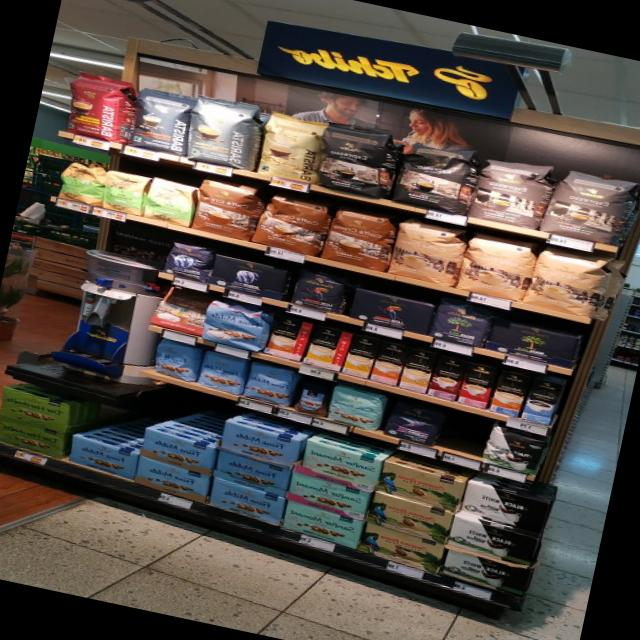AB Bohne: (158, 238, 216, 284)
AB Gemahlen: (204, 252, 294, 302)
Athiopien Bohne: (52, 159, 106, 206)
Athiopien Gemahlen: (141, 177, 197, 228), (100, 169, 152, 216)
BM Bohne: (423, 296, 495, 349)
BM Gemahlen: (482, 314, 583, 369)
BW Bohne: (479, 422, 552, 477)
BW Gemahlen: (446, 514, 538, 569), (458, 481, 549, 534), (442, 547, 535, 597)
Barista CB: (254, 110, 326, 186)
Barista CC: (182, 91, 266, 171)
Barista Espresso: (125, 85, 195, 157)
Barista Kolumbien: (64, 67, 135, 146)
C Fino Bohne: (379, 398, 443, 448)
CC Mild: (522, 240, 613, 320), (453, 227, 538, 305), (384, 212, 466, 288)
CC Vollmundig: (150, 284, 209, 335)
CC Vollmundig 36 Pads: (316, 200, 397, 274), (247, 188, 332, 258), (190, 173, 263, 241)
Colombia BB Gemahlen: (365, 490, 452, 544), (357, 521, 444, 575), (375, 460, 461, 514)
Empty Shelf: (144, 397, 223, 447), (74, 407, 143, 452), (434, 412, 491, 460)
Espresso Aromatisch: (537, 165, 640, 247), (465, 152, 558, 231)
Espresso Kraftig: (312, 116, 399, 201), (388, 136, 479, 216)
FM 36 Pads: (200, 298, 271, 353)
FM Bohne: (240, 361, 297, 408), (196, 349, 250, 396), (148, 336, 202, 383)
FM Gemahlen: (217, 418, 297, 470), (210, 448, 289, 498), (132, 454, 210, 503), (206, 476, 283, 525), (139, 427, 214, 475), (67, 433, 136, 482)
FM Instant: (289, 380, 331, 419)
Herzhatfe Mundig: (0, 386, 72, 433), (0, 415, 66, 459)
LG Bohne: (285, 265, 354, 316)
LG Gemahlen: (346, 287, 435, 336)
SM Bohne: (325, 382, 388, 434)
SM Gemahlen: (296, 438, 378, 493), (285, 470, 371, 522), (281, 498, 363, 550)
Simo CCMild: (303, 324, 352, 372)
Simo CCMild bigpack: (340, 333, 379, 379)
Simo CCVollmundig: (264, 314, 311, 361)
Simo CCVollmundig bigpack: (369, 340, 406, 387), (491, 370, 531, 412)
Simo Decaff: (398, 346, 437, 393)
Simo Es Brazil: (456, 361, 498, 409)
Simo Es Caramel: (426, 354, 466, 402)
Simo Es Vanilla: (520, 377, 564, 426)
